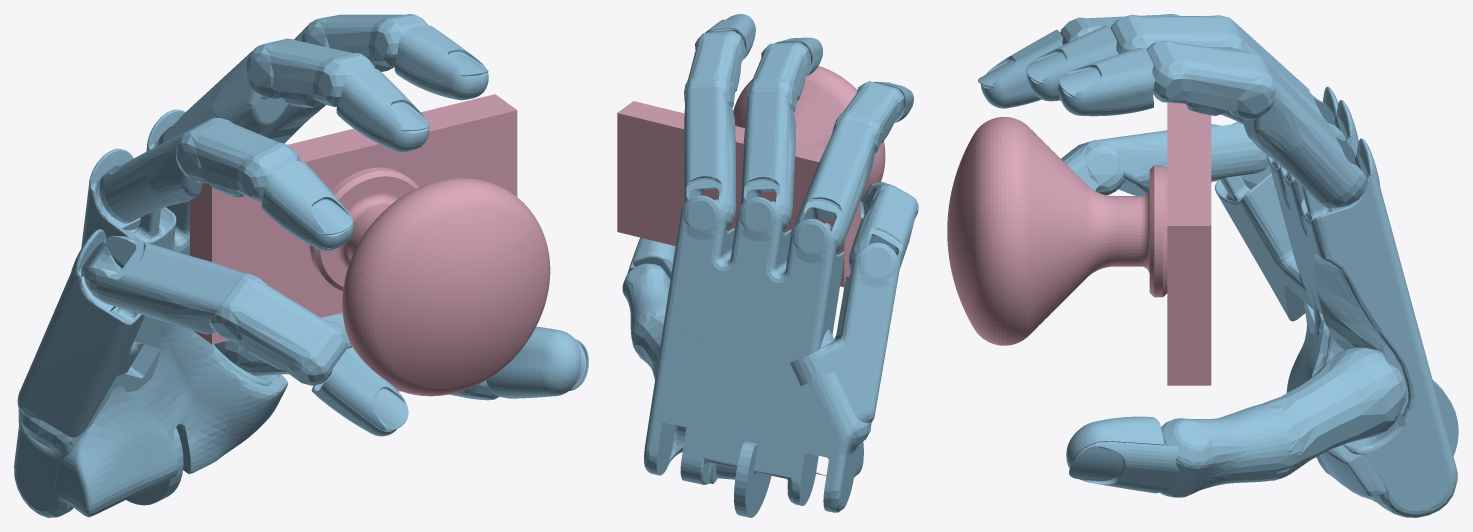
3 renders of one model, left to right at view 1: azimuth 30°, elevation 25°; view 2: azimuth 150°, elevation 25°; view 3: azimuth 270°, elevation 25°, orthographic. The views are drawn at different scales.
Visible parts, largest first — view 1: world, door_knob.stl; view 2: world, door_knob.stl; view 3: world, door_knob.stl.
Boxes of the visible parts, x1,y1,x2,y2 form: world: [14, 14, 588, 517]; door_knob.stl: [190, 94, 550, 396]; world: [622, 14, 918, 517]; door_knob.stl: [617, 66, 885, 287]; world: [978, 14, 1458, 517]; door_knob.stl: [947, 102, 1211, 385].
Size of the model in its own units: 0.1432 by 0.1652 by 0.1452.
